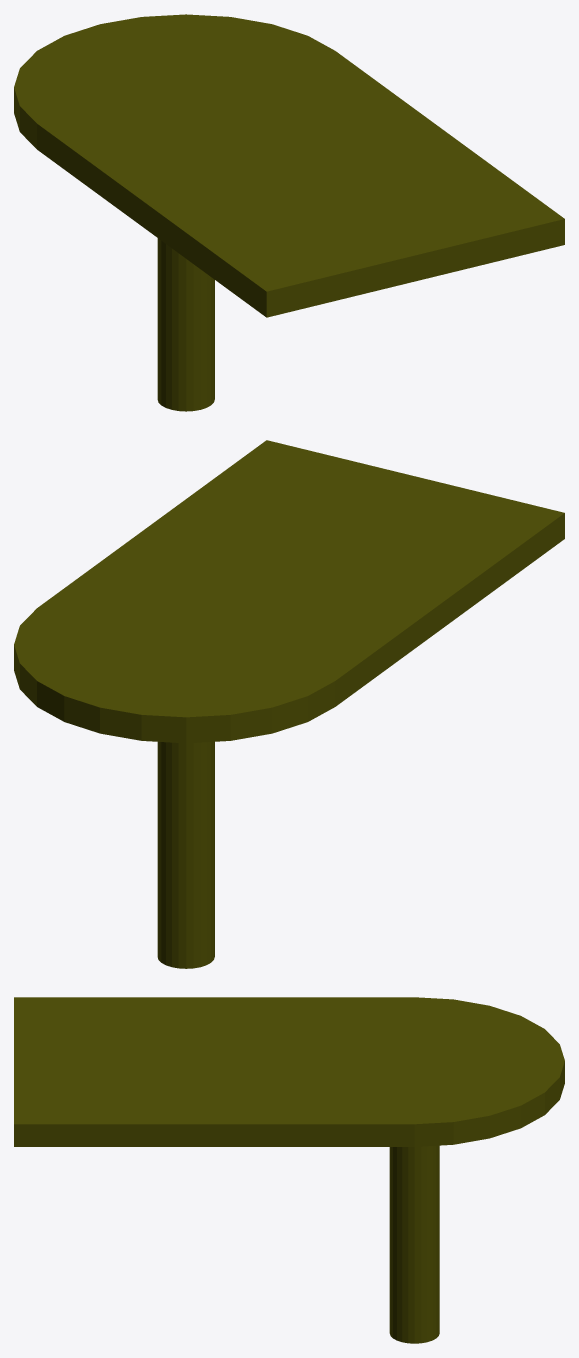
Rendered from OM_1BHK_Kitchen_Dining_Table_02.fbx.
The picture shows the model from 3 angles, top to bottom: view 1: azimuth 30°, elevation 25°; view 2: azimuth 150°, elevation 25°; view 3: azimuth 270°, elevation 25°; orthographic projection. The views are drawn at different scales.
Visible parts, largest first — view 1: OM_1BHK_Kitchen_Dining_Table_02_Top, OM_1BHK_Kitchen_Dining_Table_02_Leg; view 2: OM_1BHK_Kitchen_Dining_Table_02_Top, OM_1BHK_Kitchen_Dining_Table_02_Leg; view 3: OM_1BHK_Kitchen_Dining_Table_02_Top, OM_1BHK_Kitchen_Dining_Table_02_Leg.
Boxes of the visible parts, bbox=[...] form: OM_1BHK_Kitchen_Dining_Table_02_Top: bbox=[14, 14, 564, 317]; OM_1BHK_Kitchen_Dining_Table_02_Leg: bbox=[157, 238, 214, 411]; OM_1BHK_Kitchen_Dining_Table_02_Top: bbox=[14, 440, 564, 743]; OM_1BHK_Kitchen_Dining_Table_02_Leg: bbox=[157, 741, 214, 968]; OM_1BHK_Kitchen_Dining_Table_02_Top: bbox=[14, 997, 564, 1146]; OM_1BHK_Kitchen_Dining_Table_02_Leg: bbox=[389, 1145, 439, 1343].
Bounding box in the file's own units: 3 × 3 × 5.5.
